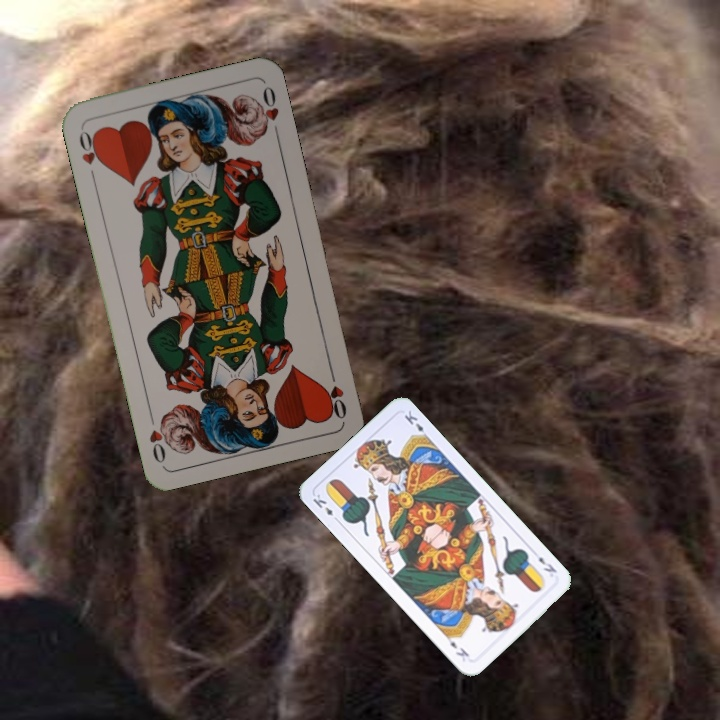EK: (309, 490, 342, 525), (534, 552, 559, 575)
HO: (75, 125, 105, 183), (322, 364, 349, 422)
